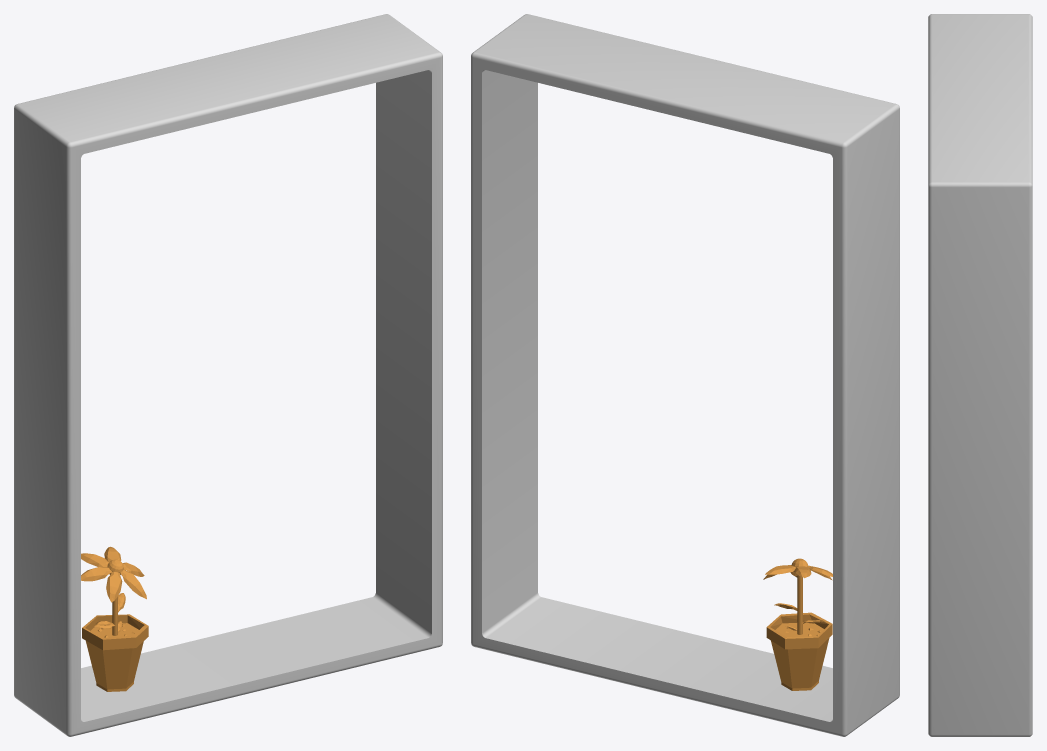
Rendered from windowsill.fbx.
3 views of the same model, side by side, from view 1: azimuth 30°, elevation 25°; view 2: azimuth 150°, elevation 25°; view 3: azimuth 270°, elevation 25° (orthographic). The views are drawn at different scales.
Visible parts, largest first — view 1: Boole, Default; view 2: Boole, Default; view 3: Boole.
Boxes of the visible parts, bbox=[...] form: Boole: bbox=[14, 14, 442, 736]; Default: bbox=[81, 546, 148, 691]; Boole: bbox=[471, 14, 899, 736]; Default: bbox=[763, 558, 832, 690]; Boole: bbox=[928, 14, 1032, 736].
Size of the model in its own units: 59.69 by 90.17 by 15.4.
